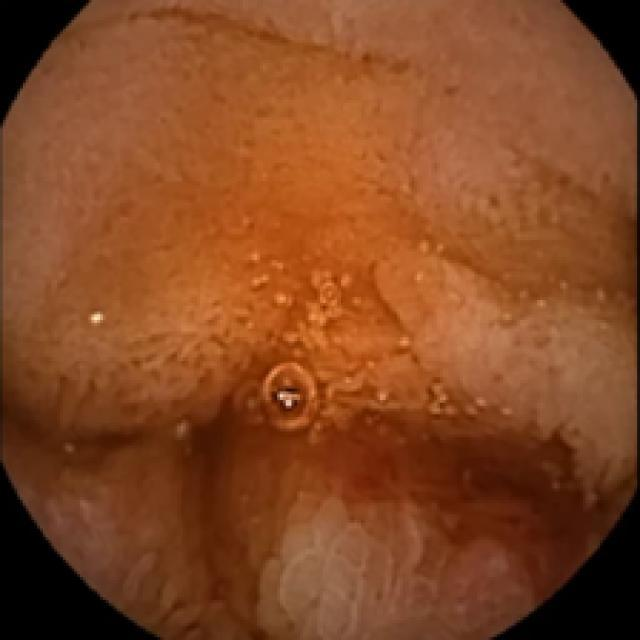bleeding: (5, 400, 623, 592)
